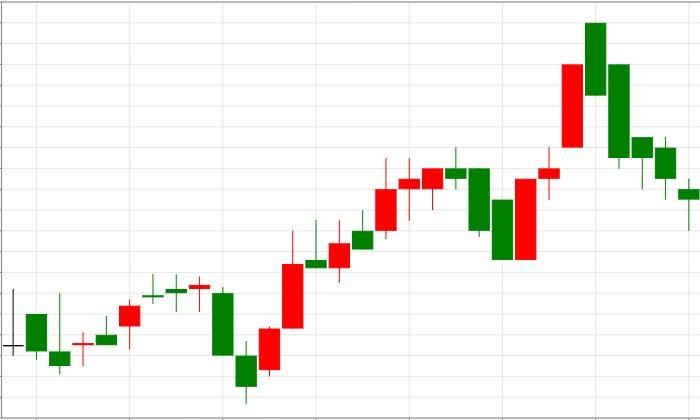bullish_engulfing_rise: (444, 146, 537, 260)
